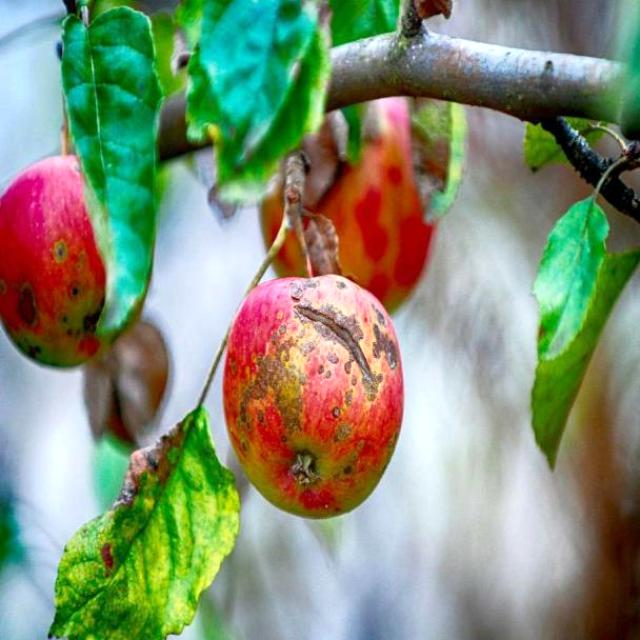SCAB: (222, 225, 421, 518), (2, 137, 149, 394)
